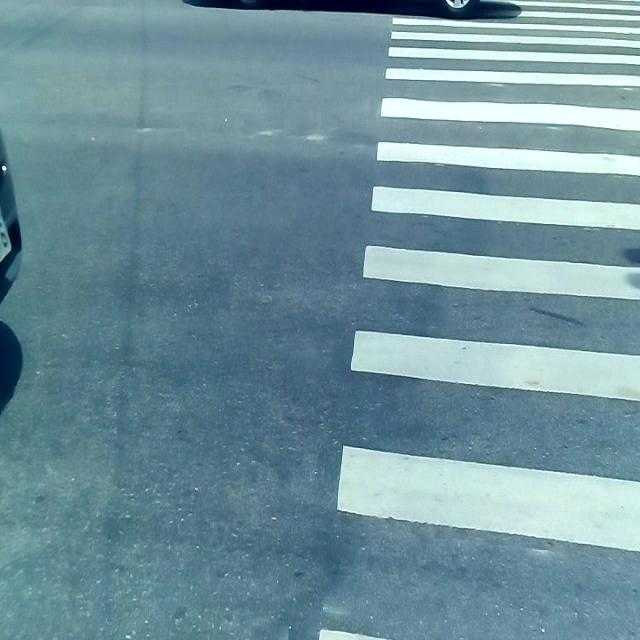crosswalk: (309, 0, 640, 640)
